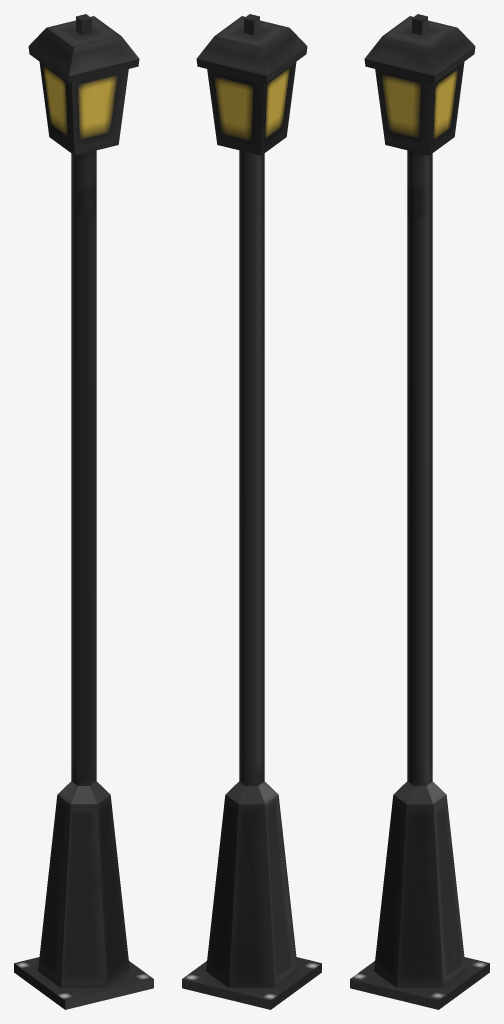
Rendered from Street_Light_001_E.FBX.
3 views of the same model, side by side, from view 1: azimuth 30°, elevation 25°; view 2: azimuth 150°, elevation 25°; view 3: azimuth 330°, elevation 25° (orthographic).
Visible parts, largest first — view 1: Street_Light_001_E; view 2: Street_Light_001_E; view 3: Street_Light_001_E.
Part boxes in pixels (<box>): Street_Light_001_E: <box>14,14,153,1009</box>; Street_Light_001_E: <box>182,14,321,1009</box>; Street_Light_001_E: <box>350,14,489,1009</box>.
Bounding box in the file's own units: 30 × 30 × 311.
